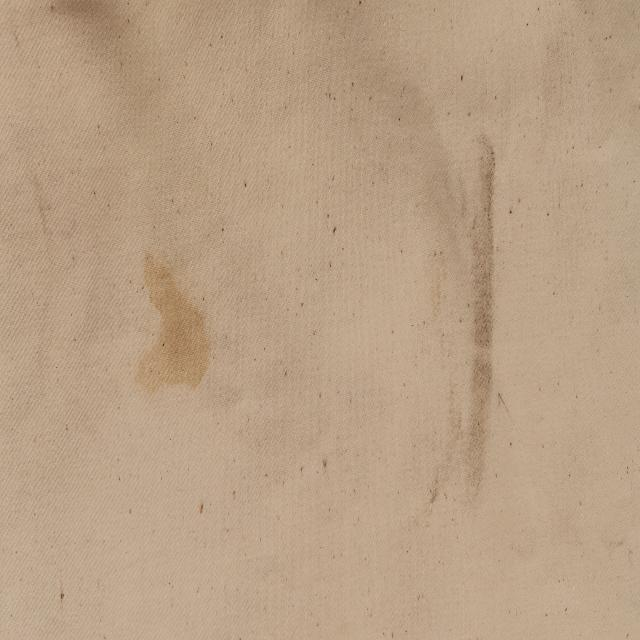taaaches: (418, 101, 511, 537), (120, 228, 224, 428)
